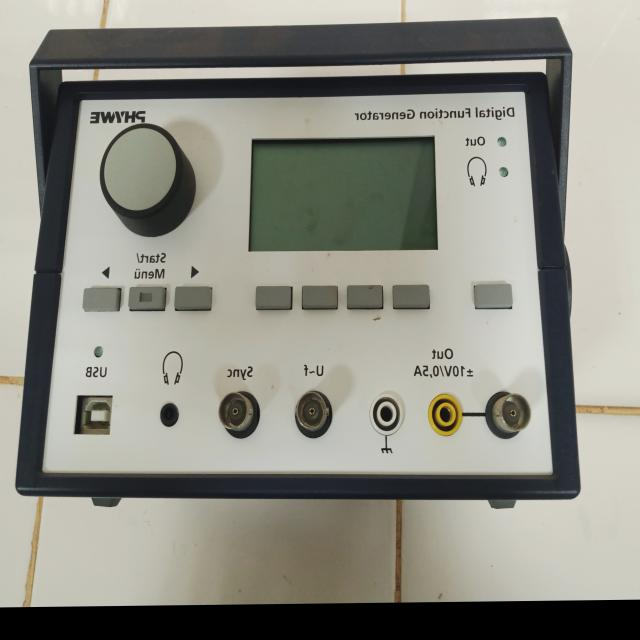Digital Function Generator: (0, 10, 596, 540)
